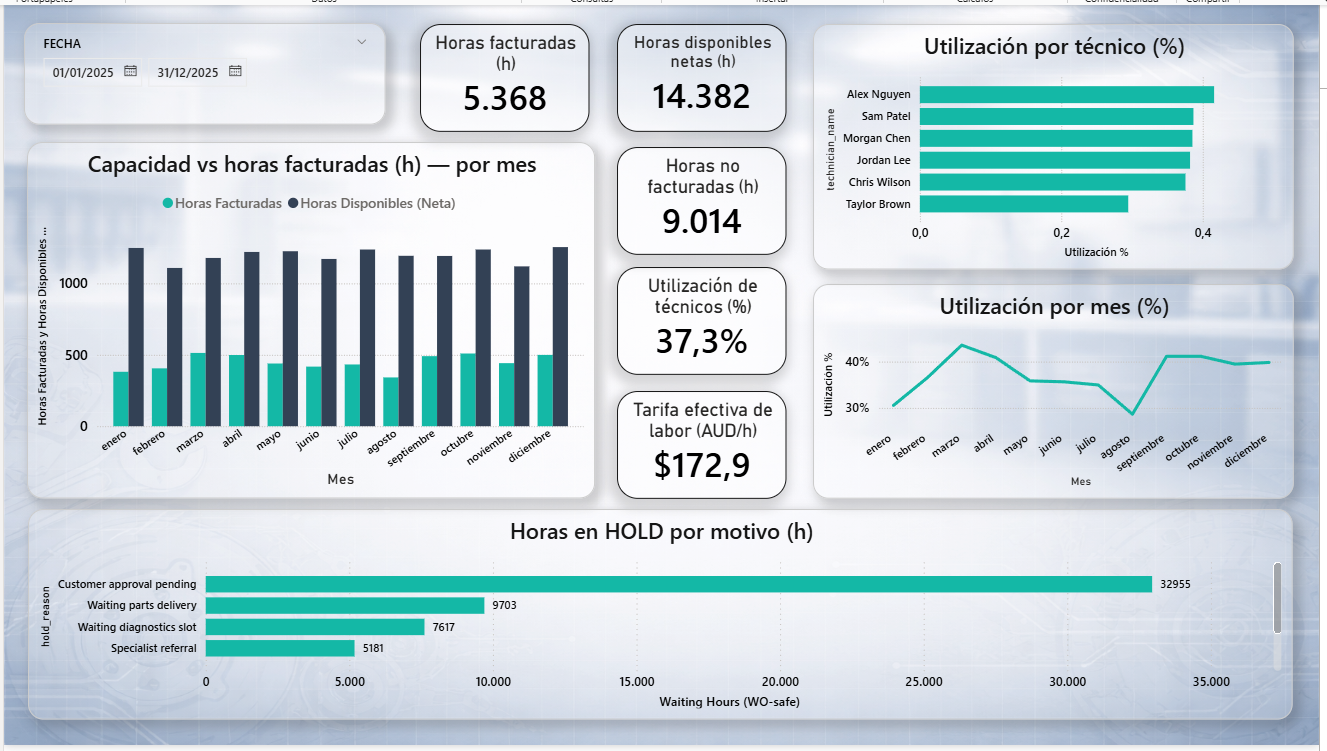

This screenshot's page, from the dashboard's own definition file:
{"tool":"powerbi","page":{"name":"Fuga #2: Utilización y tiempo perdido","canvas":[1280,720],"ordinal":2},"visuals":[{"type":"slicer","fields":{"Values":["DatetableTbl.Date"]},"box":[19.8,17.7,352.3,99],"z":0},{"type":"card","title":"Utilización de técnicos (%)","fields":{"Values":["Medidas.Utilización %"]},"box":[597,254.5,165.2,105],"z":1000},{"type":"card","title":"Horas disponibles netas (h)","fields":{"Values":["Medidas.Horas Disponibles (Neta)"]},"box":[597,18.2,165.2,105],"z":2000},{"type":"card","title":"Horas facturadas (h)","fields":{"Values":["Medidas.Horas Facturadas"]},"box":[404.5,18.2,165,105],"z":3000},{"type":"card","title":"Horas no facturadas (h)","fields":{"Values":["Medidas.Horas No Facturadas"]},"box":[597,137.9,165.2,104.5],"z":4000},{"type":"card","title":"Tarifa efectiva de labor (AUD/h)","fields":{"Values":["Medidas.Tarifa Efectiva Labor (Neta)"]},"box":[597,375.8,165.2,104.5],"z":5000},{"type":"clusteredColumnChart","title":"Capacidad vs horas facturadas (h) — por mes","fields":{"Category":["DatetableTbl.YearMonth.Variación.Jerarquía de fechas.Año","DatetableTbl.YearMonth.Variación.Jerarquía de fechas.Trimestre","DatetableTbl.YearMonth.Variación.Jerarquía de fechas.Mes","DatetableTbl.YearMonth.Variación.Jerarquía de fechas.Día"],"Y":["Medidas.Horas Facturadas","Medidas.Horas Disponibles (Neta)"]},"box":[22.7,133.3,553,347],"z":6000},{"type":"lineChart","title":"Utilización por mes (%)","fields":{"Category":["DatetableTbl.YearMonth.Variación.Jerarquía de fechas.Año","DatetableTbl.YearMonth.Variación.Jerarquía de fechas.Trimestre","DatetableTbl.YearMonth.Variación.Jerarquía de fechas.Mes","DatetableTbl.YearMonth.Variación.Jerarquía de fechas.Día"],"Y":["Medidas.Utilización %"]},"box":[787.9,271.2,468.2,209.1],"z":7000},{"type":"clusteredBarChart","title":"Utilización por técnico (%)","fields":{"Category":["TechniciansTbl.technician_name"],"Y":["Medidas.Utilización %"]},"box":[787.9,18.2,468.2,239.4],"z":8000},{"type":"barChart","title":"Horas en HOLD por motivo (h)","fields":{"Category":["WorkOrdersTbl.hold_reason"],"Y":["Medidas.Waiting Hours (WO-safe)"]},"box":[23.7,491,1231.5,205.4],"z":9000}]}

Visuals, with their boxes on the page's 1280x720 design canvas (x1, y1, x2, y2). These are canvas units, not pixel positions in the 1327x751 screenshot, which may show the page scaled, cropped or inside an application window:
slicer - DatetableTbl.Date: detection(20, 18, 372, 117)
"Utilización de técnicos (%)" card: detection(597, 254, 762, 360)
"Horas disponibles netas (h)" card: detection(597, 18, 762, 123)
"Horas facturadas (h)" card: detection(404, 18, 570, 123)
"Horas no facturadas (h)" card: detection(597, 138, 762, 242)
"Tarifa efectiva de labor (AUD/h)" card: detection(597, 376, 762, 480)
"Capacidad vs horas facturadas (h) — por mes" clusteredColumnChart: detection(23, 133, 576, 480)
"Utilización por mes (%)" lineChart: detection(788, 271, 1256, 480)
"Utilización por técnico (%)" clusteredBarChart: detection(788, 18, 1256, 258)
"Horas en HOLD por motivo (h)" barChart: detection(24, 491, 1255, 696)
